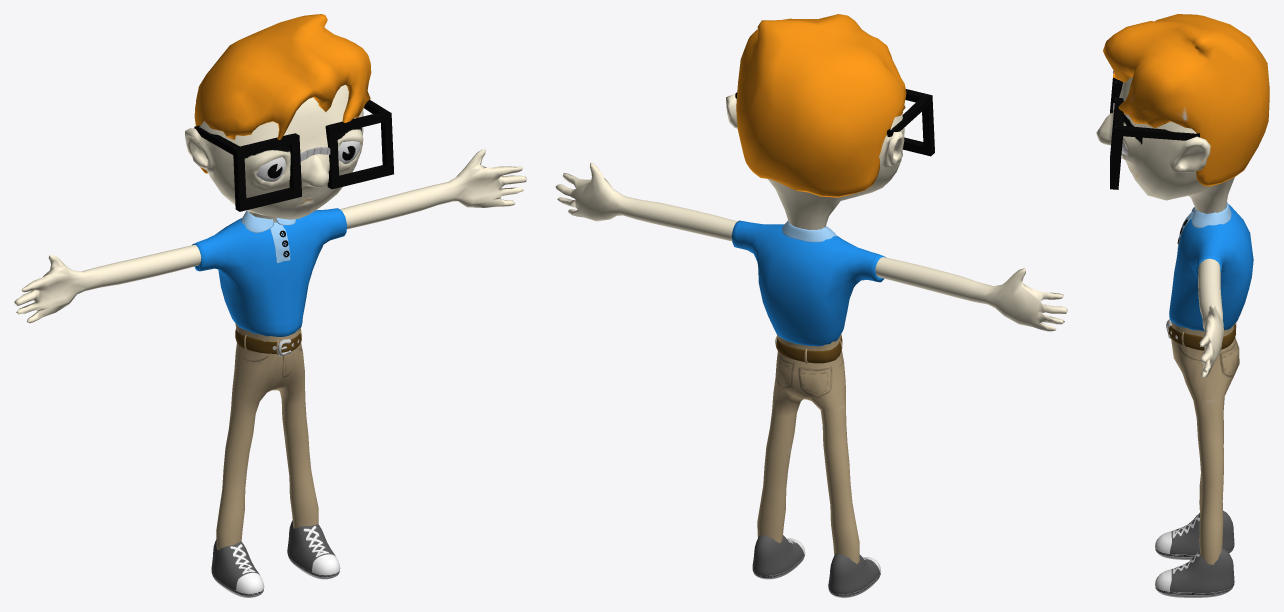
Rendered from Nerd.fbx.
3 renders of one model, left to right at view 1: azimuth 30°, elevation 25°; view 2: azimuth 150°, elevation 25°; view 3: azimuth 270°, elevation 25°, orthographic. The views are drawn at different scales.
Parts seen in each view (by area): view 1: polySurface36; view 2: polySurface36; view 3: polySurface36.
Part boxes in pixels (x1,y1,x2,y2): polySurface36: (14, 14, 526, 597); polySurface36: (555, 14, 1067, 597); polySurface36: (1096, 14, 1269, 597).
Bounding box in the file's own units: 7.85 × 8.04 × 2.25.
